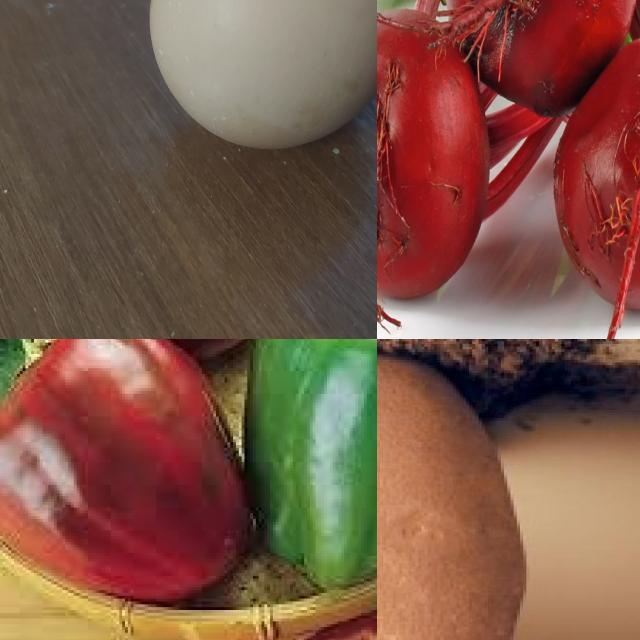beet: (378, 9, 491, 304), (553, 34, 640, 312), (445, 1, 639, 100)
bell_pepper: (4, 340, 249, 635), (227, 340, 378, 594)
egg: (145, 1, 378, 158)
potato: (378, 356, 526, 640)
